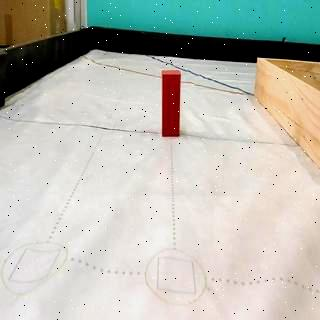redbox: (161, 68, 181, 136)
